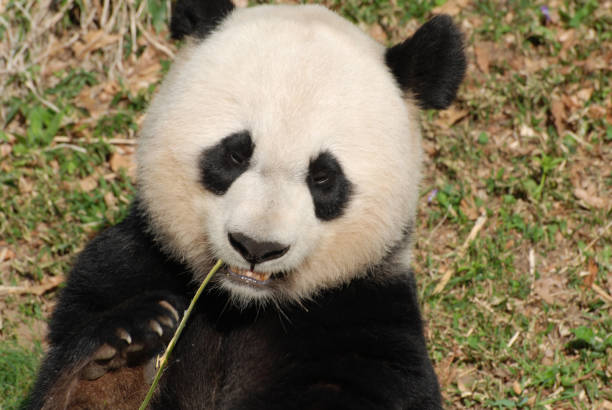panda: (121, 1, 471, 330)
